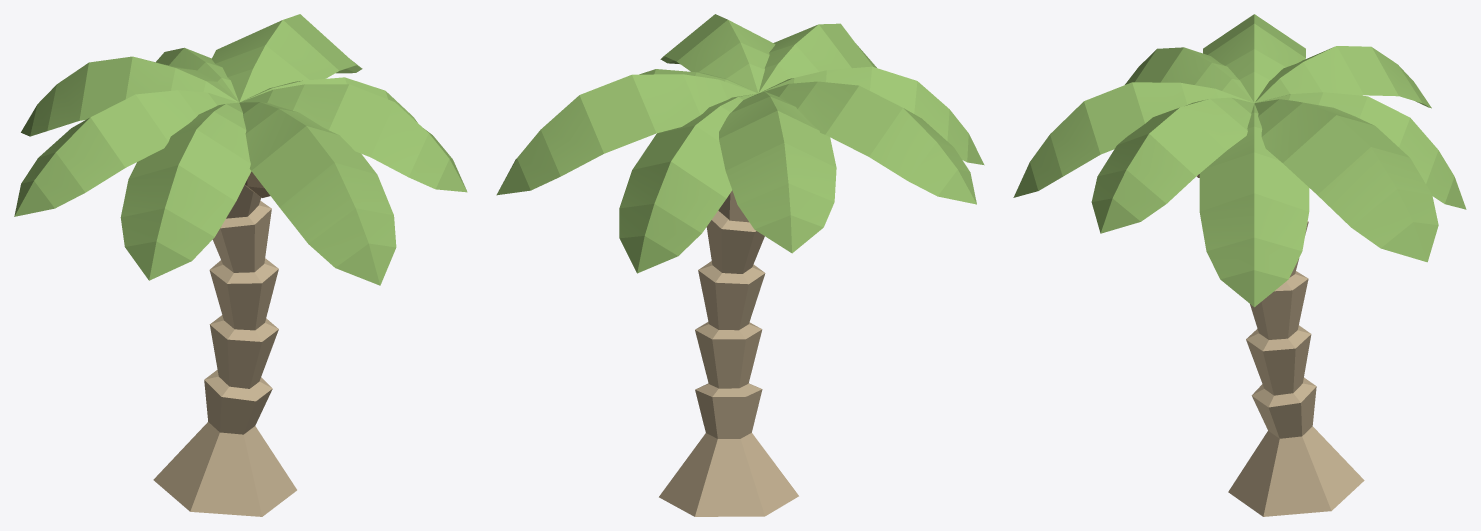
File: Prop_Tree_Palm_3.glb
The picture shows the model from 3 angles, left to right: view 1: azimuth 30°, elevation 25°; view 2: azimuth 150°, elevation 25°; view 3: azimuth 270°, elevation 25°; orthographic projection. The views are drawn at different scales.
Visible parts, largest first — view 1: object7, object15, object9, object6, object18, object2, object19, object4, object10, object13, object14, object1 (+2 smaller); view 2: object2, object19, object1, object9, object18, object6, object15, object7, object4, object10, object13, object14; view 3: object19, object12, object6, object7, object18, object2, object1, object9, object15, object4, object13, object10.
Boxes of the visible parts, <box> form: object7: <box>239,102,396,285</box>; object15: <box>120,102,251,280</box>; object9: <box>14,90,238,216</box>; object6: <box>240,84,467,192</box>; object18: <box>153,422,296,516</box>; object2: <box>21,56,238,136</box>; object19: <box>211,14,362,102</box>; object4: <box>209,315,278,388</box>; object10: <box>209,258,278,330</box>; object13: <box>204,370,272,434</box>; object14: <box>212,201,271,272</box>; object1: <box>156,47,238,101</box>; object2: <box>719,91,836,253</box>; object19: <box>496,74,757,195</box>; object1: <box>619,93,757,273</box>; object9: <box>765,81,976,204</box>; object18: <box>659,432,798,516</box>; object6: <box>660,14,775,93</box>; object15: <box>760,66,984,165</box>; object7: <box>758,23,876,93</box>; object4: <box>695,322,762,388</box>; object10: <box>698,261,765,330</box>; object13: <box>695,383,762,438</box>; object14: <box>706,210,764,273</box>; object19: <box>1254,99,1438,262</box>; object12: <box>1199,103,1309,307</box>; object6: <box>1091,97,1254,233</box>; object7: <box>1013,82,1252,197</box>; object18: <box>1228,426,1364,516</box>; object2: <box>1255,46,1431,108</box>; object1: <box>1256,92,1466,209</box>; object9: <box>1203,14,1305,102</box>; object15: <box>1125,47,1253,102</box>; object4: <box>1246,325,1311,395</box>; object13: <box>1251,377,1316,438</box>; object10: <box>1250,271,1308,339</box>.
Size of the model in its own units: 3.42 by 3.35 by 3.31.
